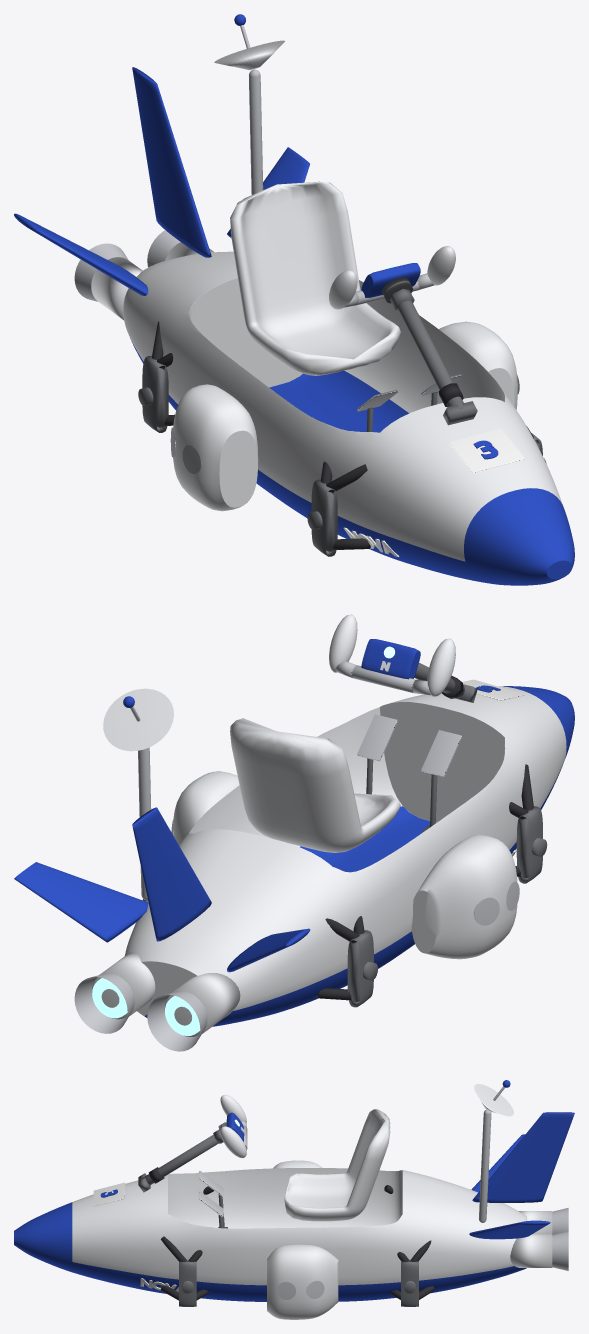
The model's file is Kart_Orbit.fbx.
3 renders of one model, top to bottom at view 1: azimuth 30°, elevation 25°; view 2: azimuth 150°, elevation 25°; view 3: azimuth 270°, elevation 25°, orthographic. The views are drawn at different scales.
Parts seen in each view (by area): view 1: Kart_Body, Kart_Details, Seat, Steering_Wheel; view 2: Kart_Body, Kart_Details, Seat, Steering_Wheel; view 3: Kart_Body, Kart_Details, Seat, Steering_Wheel.
Part boxes in pixels (x1,y1,x2,y2): Kart_Body: (123,251,574,585); Kart_Details: (14,14,546,557); Seat: (230,181,400,375); Steering_Wheel: (329,246,464,409); Kart_Body: (124,686,574,1026); Kart_Details: (14,679,547,1051); Seat: (230,718,400,852); Steering_Wheel: (329,614,464,699); Kart_Body: (14,1160,526,1319); Kart_Details: (93,1080,574,1306); Seat: (284,1109,390,1221); Steering_Wheel: (141,1095,247,1185).
Size of the model in its own units: 0.7631 by 0.7629 by 1.73.
